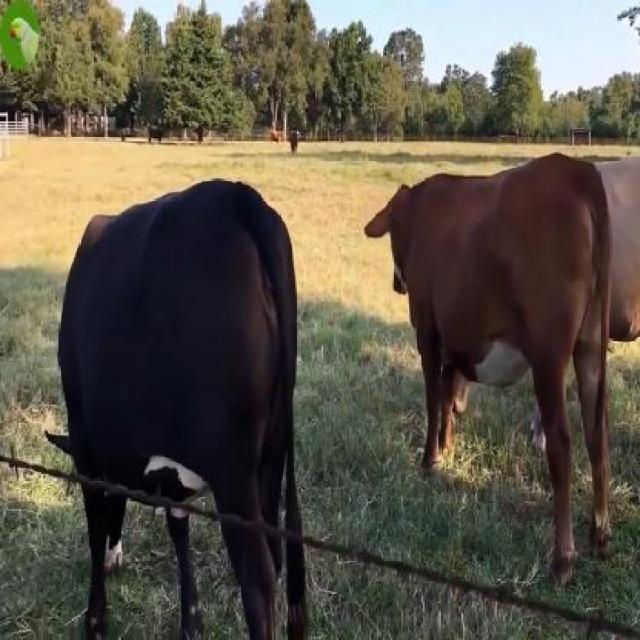Cow: (59, 178, 298, 638), (361, 154, 614, 569)
